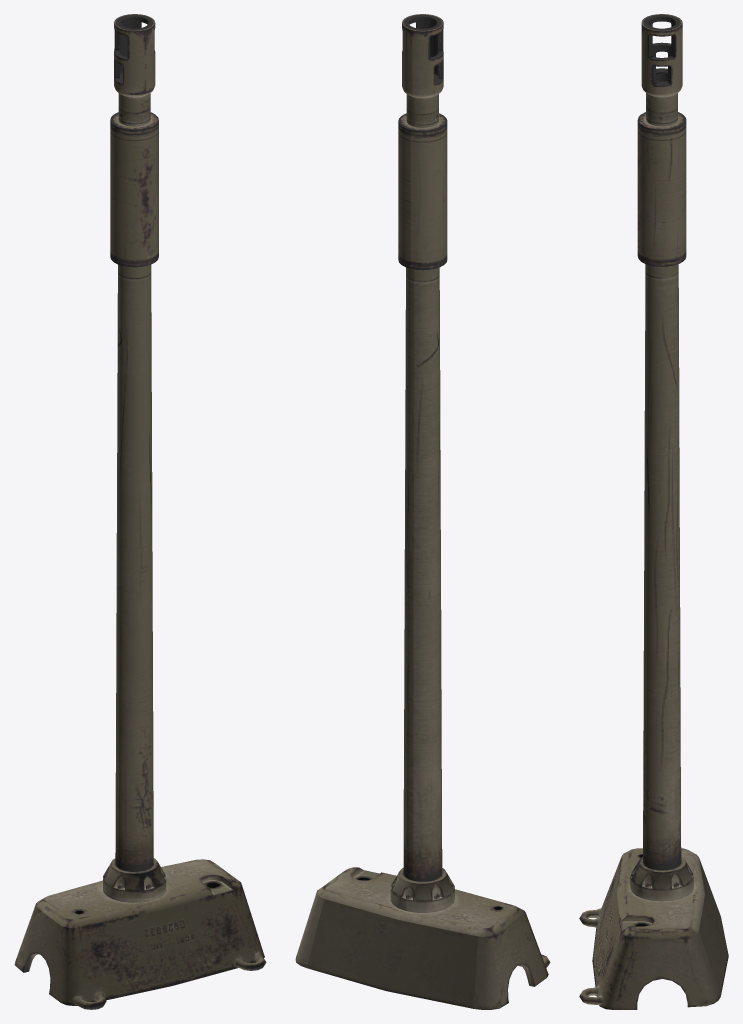
Rendered from Gun_01.glb.
3 views of the same model, side by side, from view 1: azimuth 30°, elevation 25°; view 2: azimuth 150°, elevation 25°; view 3: azimuth 270°, elevation 25° (orthographic).
Visible parts, largest first — view 1: set_0_group_0; view 2: set_0_group_0; view 3: set_0_group_0.
Boxes of the visible parts, <box> form: set_0_group_0: <box>14,14,266,1009</box>; set_0_group_0: <box>295,14,550,1009</box>; set_0_group_0: <box>579,14,728,1009</box>.
Size of the model in its own units: 1.34 by 5.97 by 0.8638.
1 material, 1 textured.
